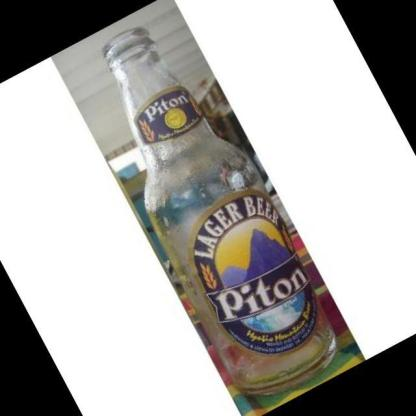Can: (101, 26, 336, 395)
